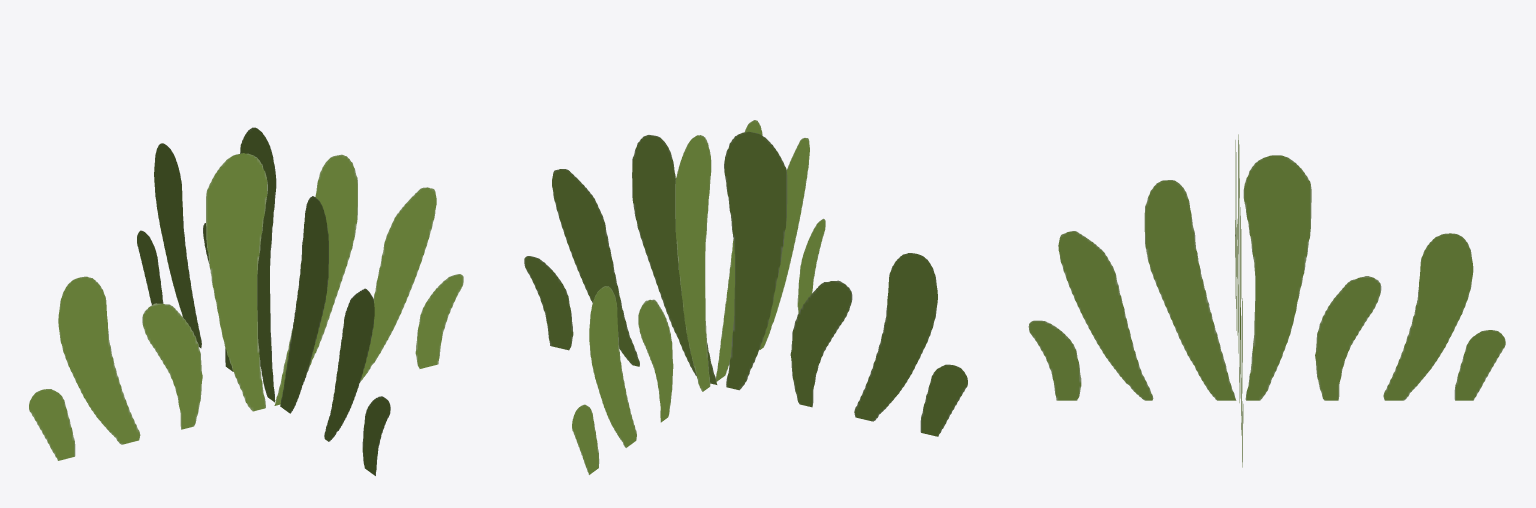
The model's file is Grass_02.fbx.
3 views of the same model, side by side, from view 1: azimuth 30°, elevation 25°; view 2: azimuth 150°, elevation 25°; view 3: azimuth 270°, elevation 25° (orthographic). The views are drawn at different scales.
Visible parts, largest first — view 1: Plane.049; view 2: Plane.049; view 3: Plane.049.
Part boxes in pixels (x1,y1,x2,y2): Plane.049: [29, 127, 463, 475]; Plane.049: [524, 120, 967, 474]; Plane.049: [1028, 134, 1505, 467].
Size of the model in its own units: 35.36 by 20.23 by 35.37.
1 material, 1 textured.
